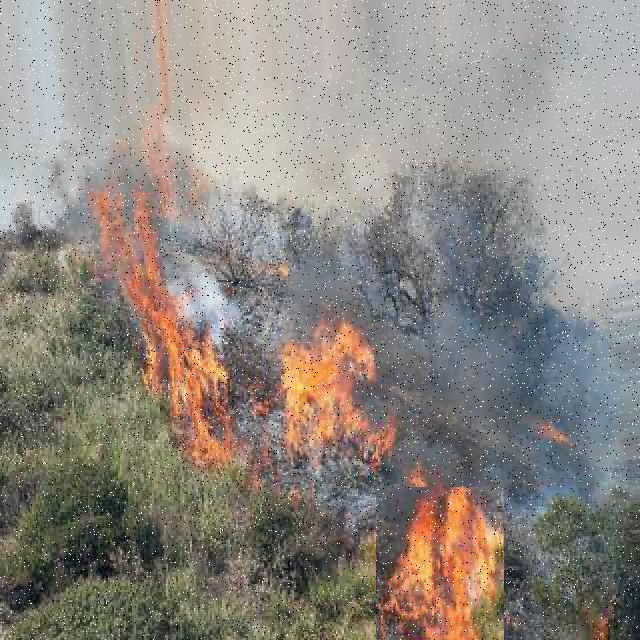fire: (269, 298, 381, 477), (376, 487, 504, 640)
